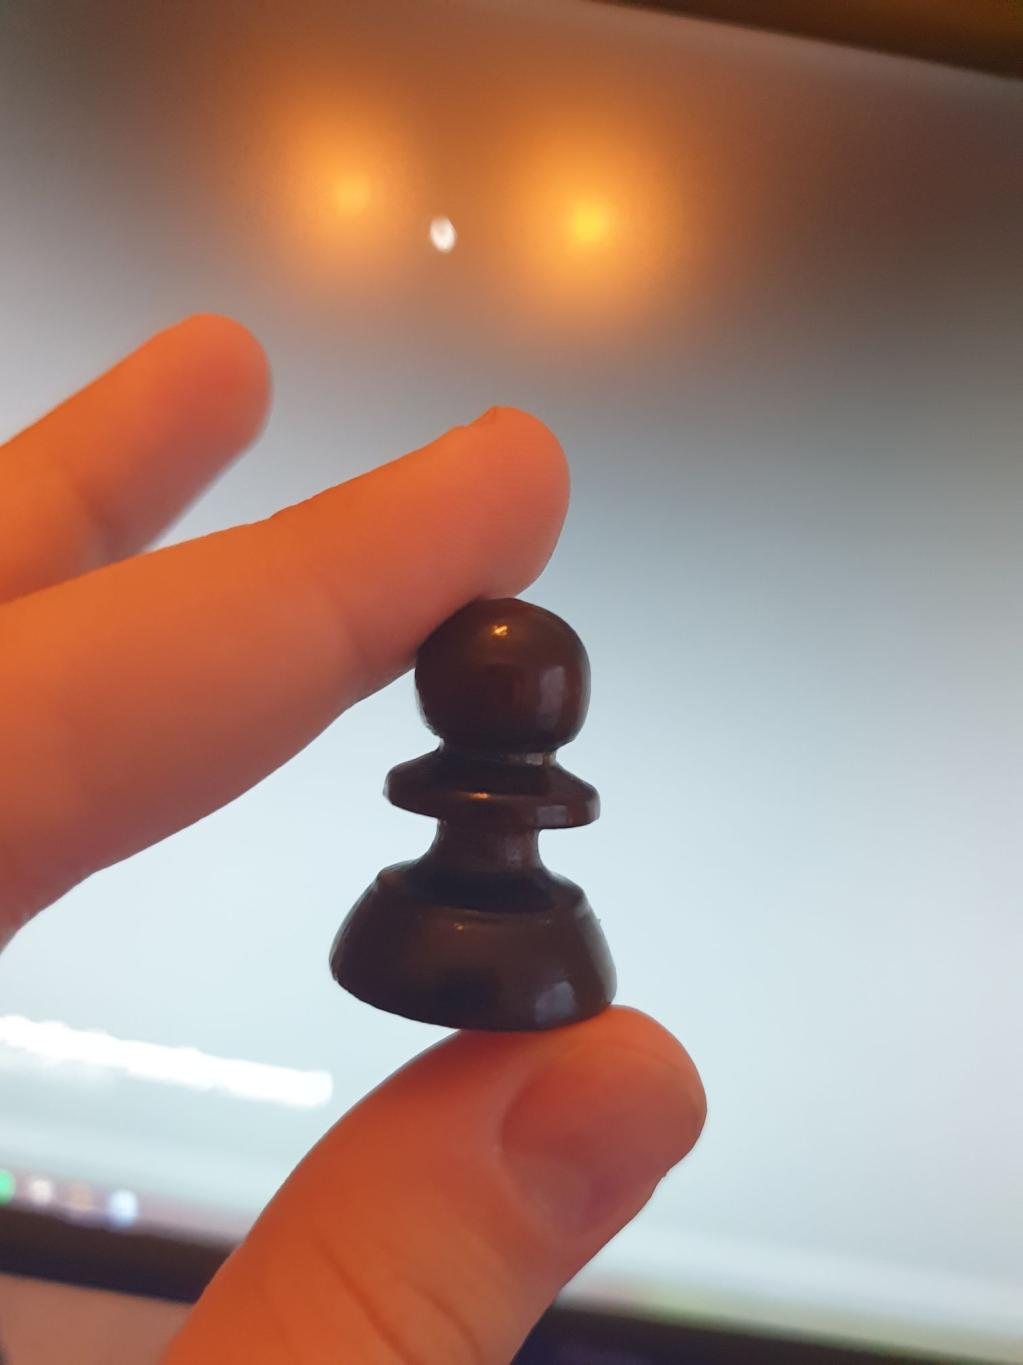bpawn: (330, 600, 618, 1033)
